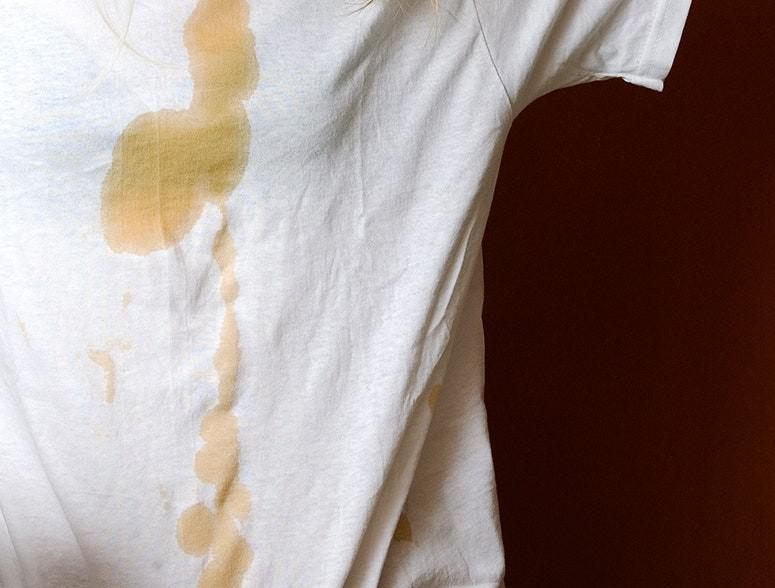gun: (99, 3, 255, 253), (178, 259, 264, 575), (92, 339, 131, 396)
